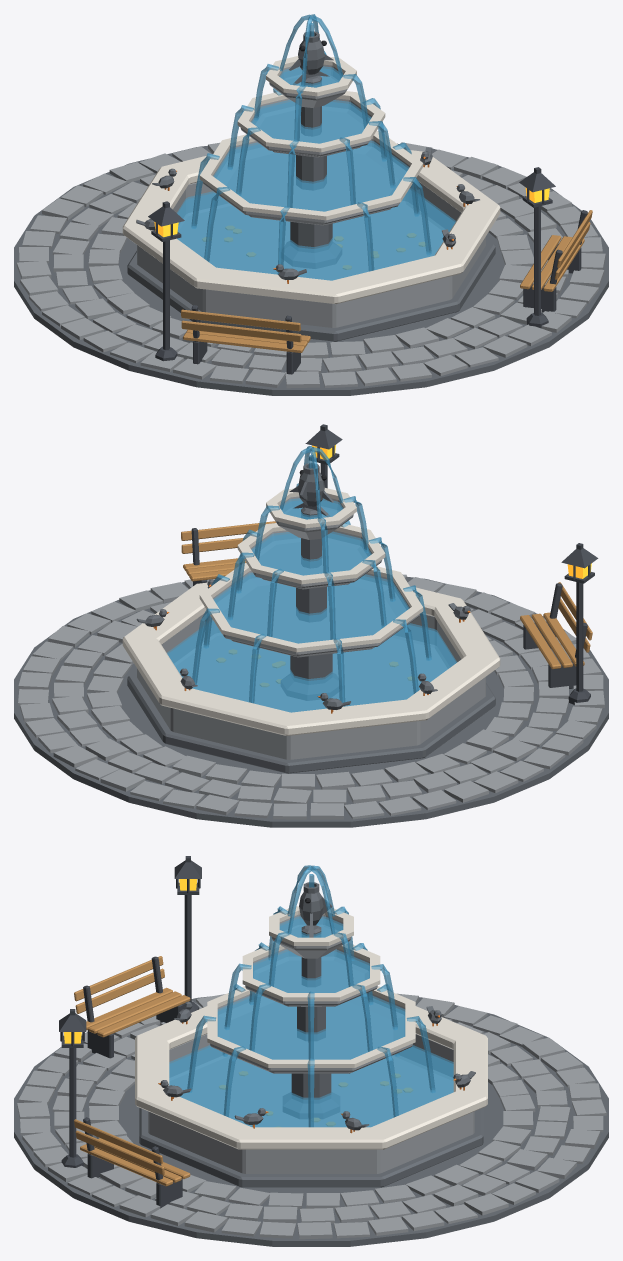
File: village-square-fountain.glb
3 renders of one model, top to bottom at view 1: azimuth 30°, elevation 25°; view 2: azimuth 150°, elevation 25°; view 3: azimuth 270°, elevation 25°, orthographic.
Parts seen in each view (by area): view 1: Cobbles, Basin, Pool_Water, Basin_Rim, Plaza_Base, Tier1_Water, Tier1_Bowl, Basin_Plinth, Column, Tier1_Lip, Tier2_Bowl, Tier2_Water (+14 smaller); view 2: Cobbles, Basin, Basin_Rim, Pool_Water, Plaza_Base, Tier1_Water, Tier1_Bowl, Basin_Plinth, Column, Tier1_Lip, Tier2_Bowl, Tier2_Water (+12 smaller); view 3: Cobbles, Basin, Basin_Rim, Pool_Water, Plaza_Base, Tier1_Water, Tier1_Bowl, Basin_Plinth, Tier2_Bowl, Column, Tier1_Lip, Tier2_Water (+19 smaller).
Boxes of the visible parts, x1,y1,x2,y2 form: Cobbles: (16, 142, 605, 388); Basin: (137, 180, 485, 327); Pool_Water: (177, 187, 455, 280); Basin_Rim: (122, 150, 500, 304); Plaza_Base: (14, 143, 608, 395); Tier1_Water: (213, 140, 409, 211); Tier1_Bowl: (203, 139, 409, 225); Basin_Plinth: (127, 238, 495, 341); Column: (284, 106, 341, 268); Tier1_Lip: (199, 131, 423, 220); Tier2_Bowl: (240, 98, 372, 157); Tier2_Water: (251, 100, 371, 143); Cobbles: (18, 574, 604, 819); Basin: (137, 612, 485, 759); Basin_Rim: (122, 582, 500, 735); Pool_Water: (167, 619, 456, 712); Plaza_Base: (14, 576, 608, 827); Tier1_Water: (213, 572, 409, 643); Tier1_Bowl: (212, 571, 419, 657); Basin_Plinth: (127, 670, 495, 773); Column: (281, 538, 338, 700); Tier1_Lip: (199, 563, 423, 652); Tier2_Bowl: (250, 530, 381, 589); Tier2_Water: (251, 531, 371, 575); Cobbles: (17, 993, 606, 1239); Basin: (148, 1034, 474, 1173); Basin_Rim: (135, 1006, 487, 1149); Pool_Water: (169, 1045, 453, 1127); Plaza_Base: (14, 996, 608, 1246); Tier1_Water: (217, 993, 405, 1059); Tier1_Bowl: (210, 993, 412, 1073); Basin_Plinth: (139, 1107, 483, 1187); Tier2_Bowl: (245, 948, 377, 1006); Column: (283, 957, 339, 1118); Tier1_Lip: (207, 986, 415, 1067); Tier2_Water: (253, 949, 369, 992).
Bounding box in the file's own units: 26.97 × 12.76 × 26.97.
